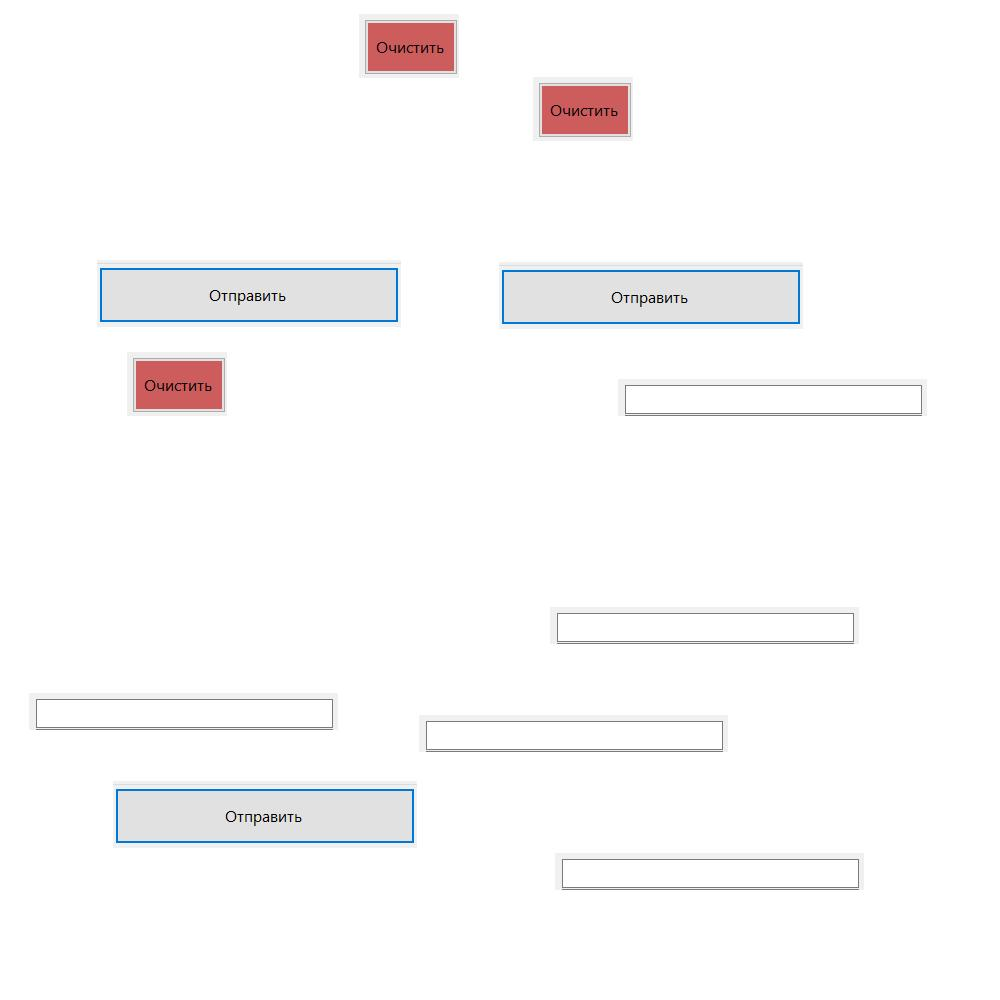Button: (499, 262, 803, 329), (113, 781, 417, 848), (97, 260, 401, 327), (127, 352, 227, 416), (533, 77, 633, 141), (359, 14, 459, 78)
EditText-: (419, 715, 728, 752), (550, 607, 859, 644), (29, 693, 338, 730), (555, 853, 864, 890), (618, 379, 927, 416)
